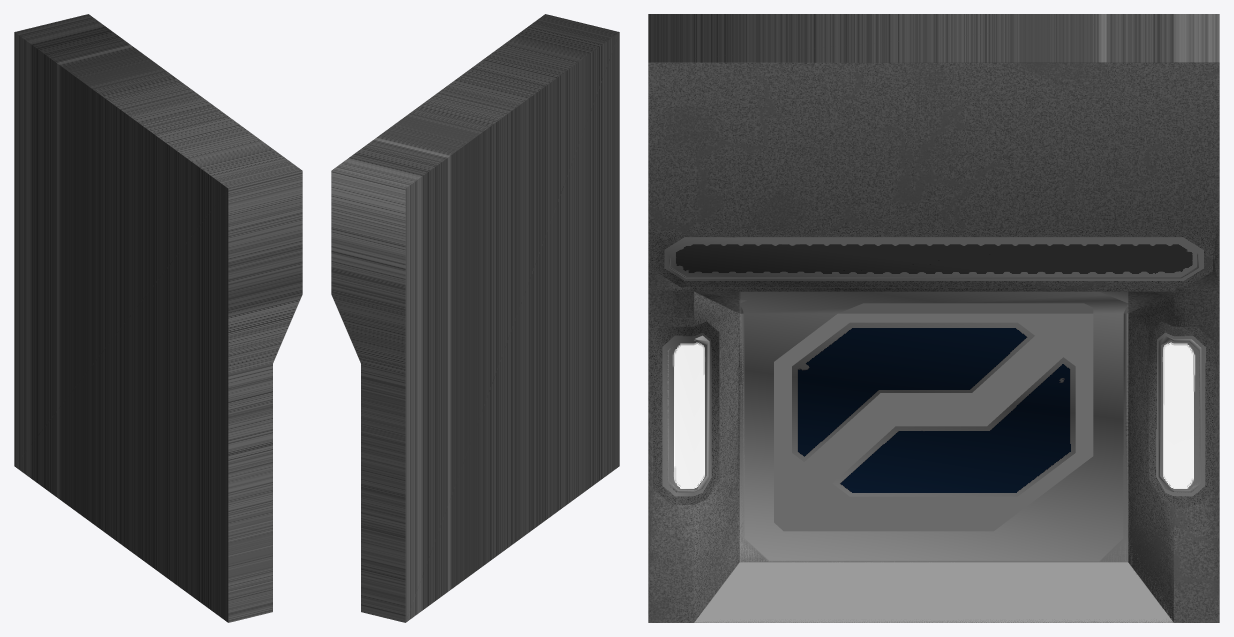
The model's file is Arena_WallC.fbx.
The picture shows the model from 3 angles, left to right: view 1: azimuth 30°, elevation 25°; view 2: azimuth 150°, elevation 25°; view 3: azimuth 270°, elevation 25°; orthographic projection. The views are drawn at different scales.
Parts seen in each view (by area): view 1: WallC_Med; view 2: WallC_Med; view 3: WallC_Med, WallC_Low.
Boxes of the visible parts, left/top/right/bottom form: WallC_Med: left=14, top=14, right=302, bottom=622; WallC_Med: left=331, top=14, right=619, bottom=622; WallC_Med: left=648, top=14, right=1219, bottom=622; WallC_Low: left=648, top=228, right=1219, bottom=622.
Bounding box in the file's own units: 2.5 × 14 × 12.5.
